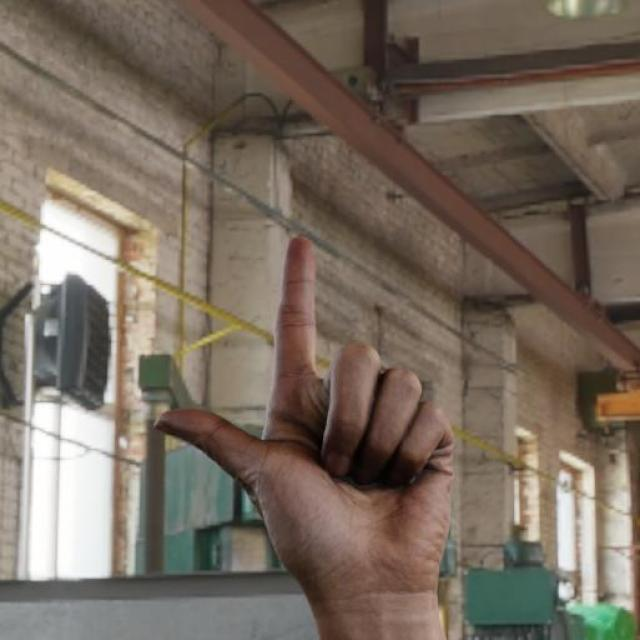L: (159, 217, 465, 624)
